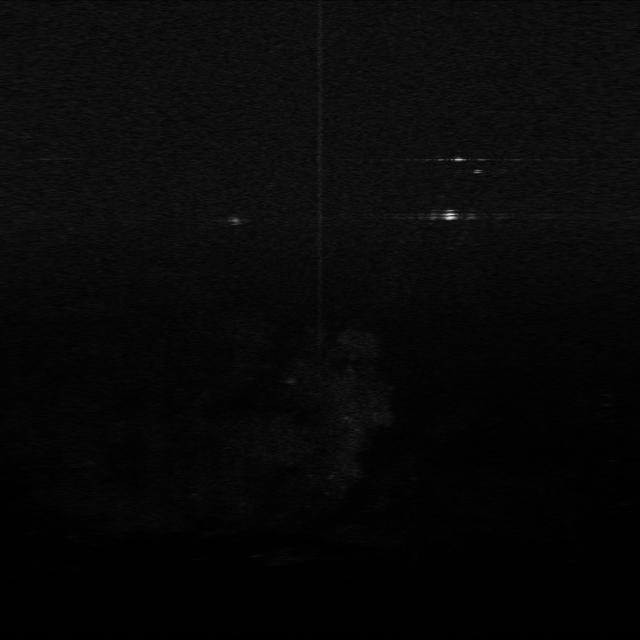rov: (440, 207, 464, 224)
